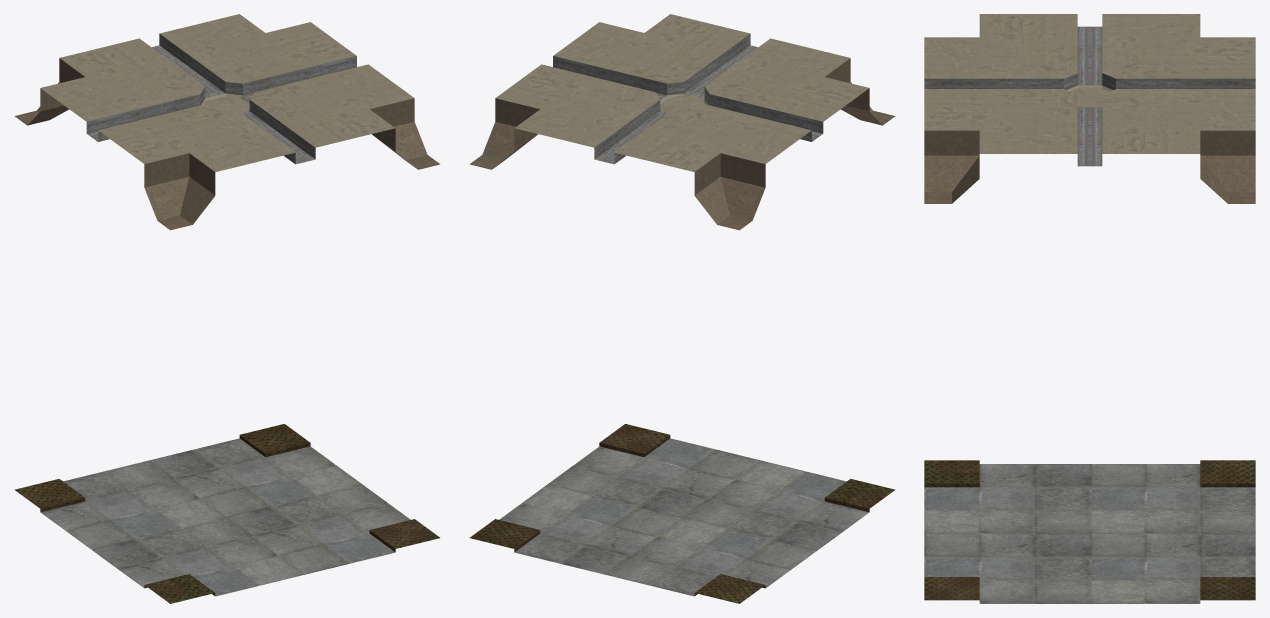
File: 3x3_fourway_hallway.fbx
3 renders of one model, left to right at view 1: azimuth 30°, elevation 25°; view 2: azimuth 150°, elevation 25°; view 3: azimuth 270°, elevation 25°, orthographic. The views are drawn at different scales.
Visible parts, largest first — view 1: 3x3FourWayHallwayModel; view 2: 3x3FourWayHallwayModel; view 3: 3x3FourWayHallwayModel.
Boxes of the visible parts, x1,y1,x2,y2 form: 3x3FourWayHallwayModel: [14, 14, 440, 603]; 3x3FourWayHallwayModel: [469, 14, 895, 603]; 3x3FourWayHallwayModel: [924, 14, 1255, 603].
Size of the model in its own units: 300 by 450 by 300.
